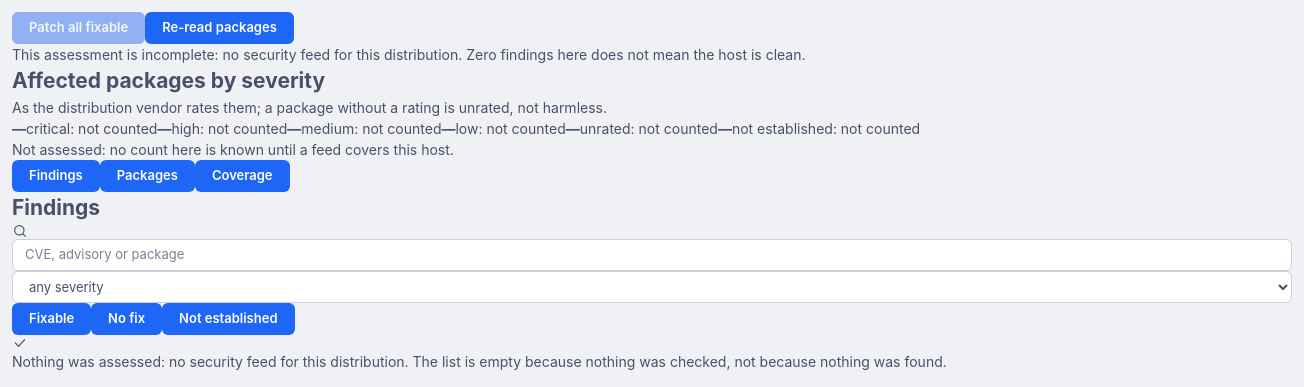
Test: what the vendor says about this host › says nothing was assessed rather than showing a clean host
Expected: the text "Zero findings here does not mean the host is clean" is shown, [12,46,806,63]
Expected: the element with test id "by-severity" shows "—", [12,120,26,136]
Click the tab "Packages" at (147, 176), box [100,160,195,192]
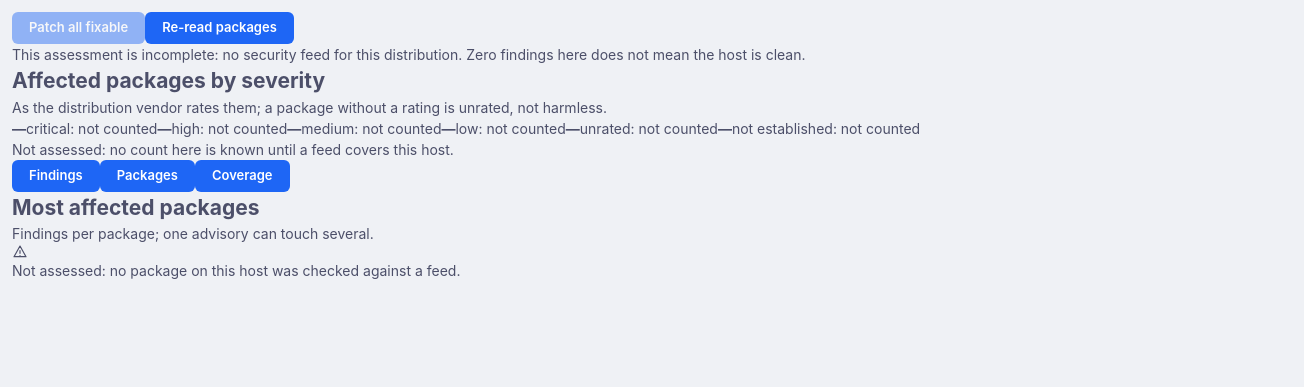
Now the text "no package on this host was checked against a feed" is shown, box [12,262,460,279]
